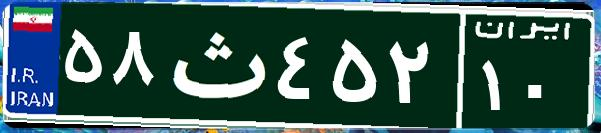0: (525, 38, 570, 115)
1: (475, 38, 525, 113)
2: (385, 28, 445, 110)
4: (273, 28, 330, 110)
5: (330, 28, 385, 110), (57, 26, 110, 107)
8: (110, 28, 158, 105)
ث: (158, 15, 273, 115)
